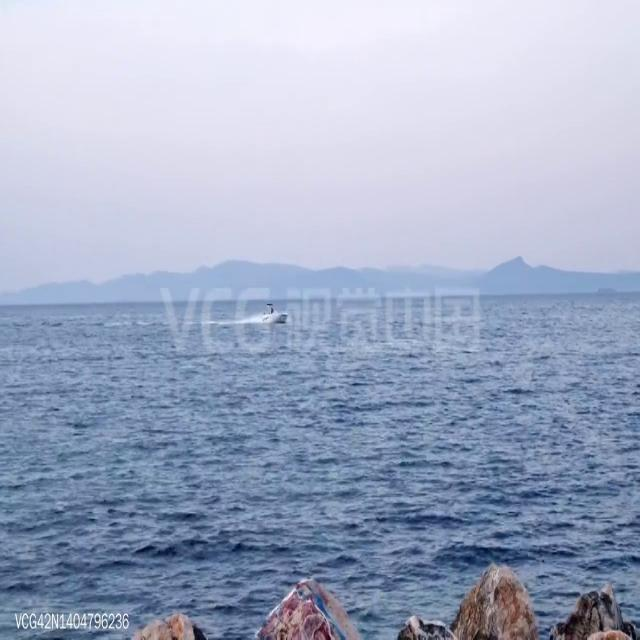houseboat: (261, 298, 288, 322)
